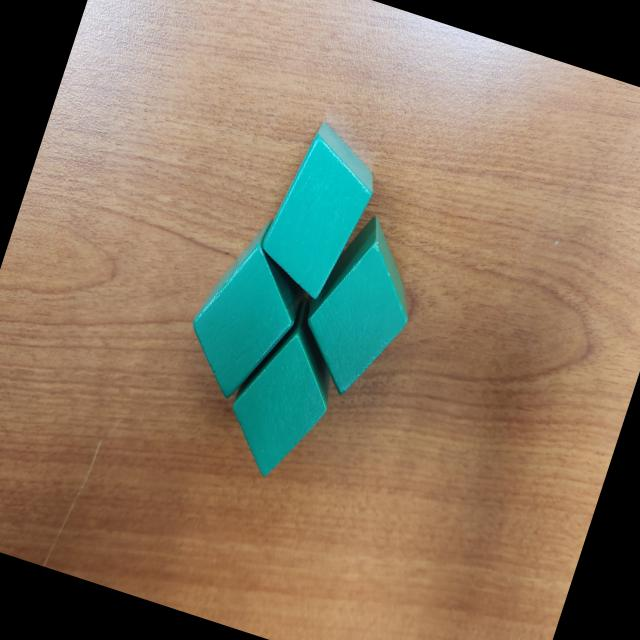green: (174, 205, 324, 412), (286, 205, 436, 408), (250, 114, 390, 308), (214, 298, 354, 490)
